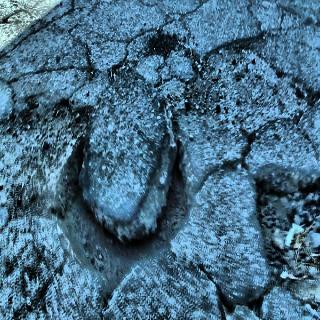alligator-crack: (2, 5, 320, 124), (196, 17, 320, 320)
pothole: (51, 65, 197, 297), (252, 156, 320, 305)
